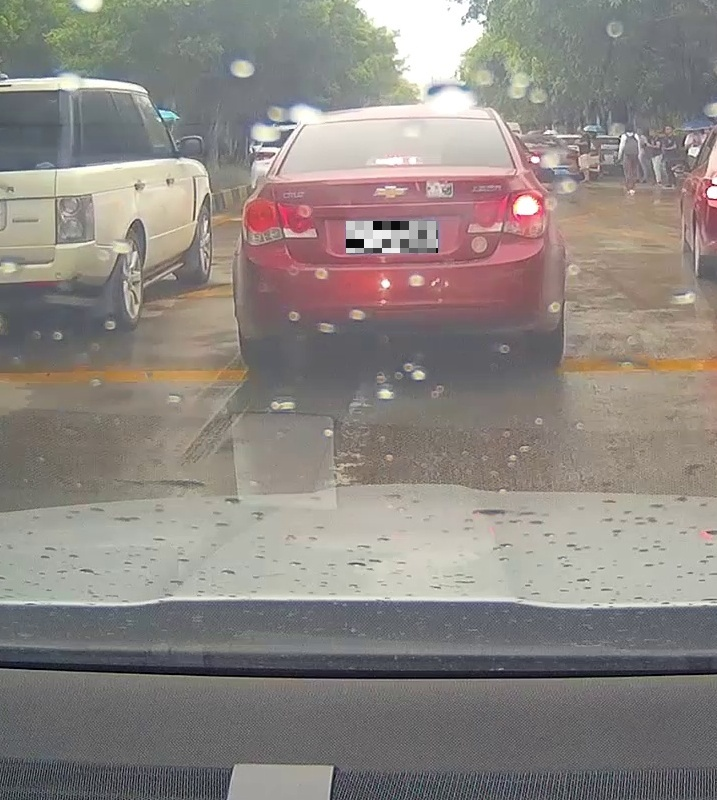L_light: (240, 197, 317, 246)
R_light: (466, 189, 549, 237)
T_light: (372, 157, 423, 165)
day-right: (232, 111, 565, 366)
plate_1: (346, 221, 438, 253)
